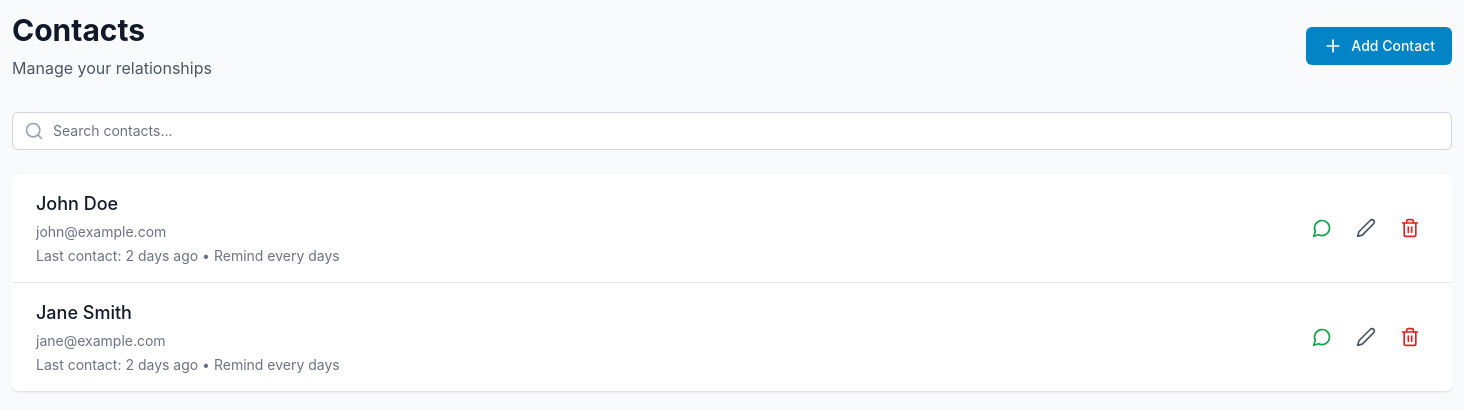
Scenario: Contacts Component › filters contacts based on search query
In the field with placeholder "Search contacts...": coordinates (732, 131) [12,112,1452,150], type "john"
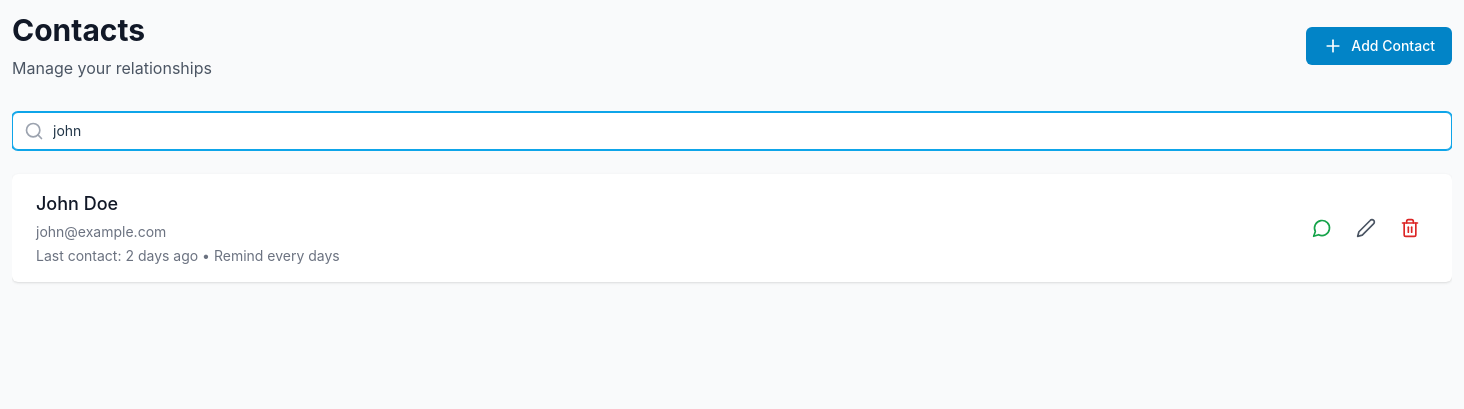
Expected: the heading "John Doe" is shown, [36,193,118,214]
Result: the heading "Jane Smith" is gone
